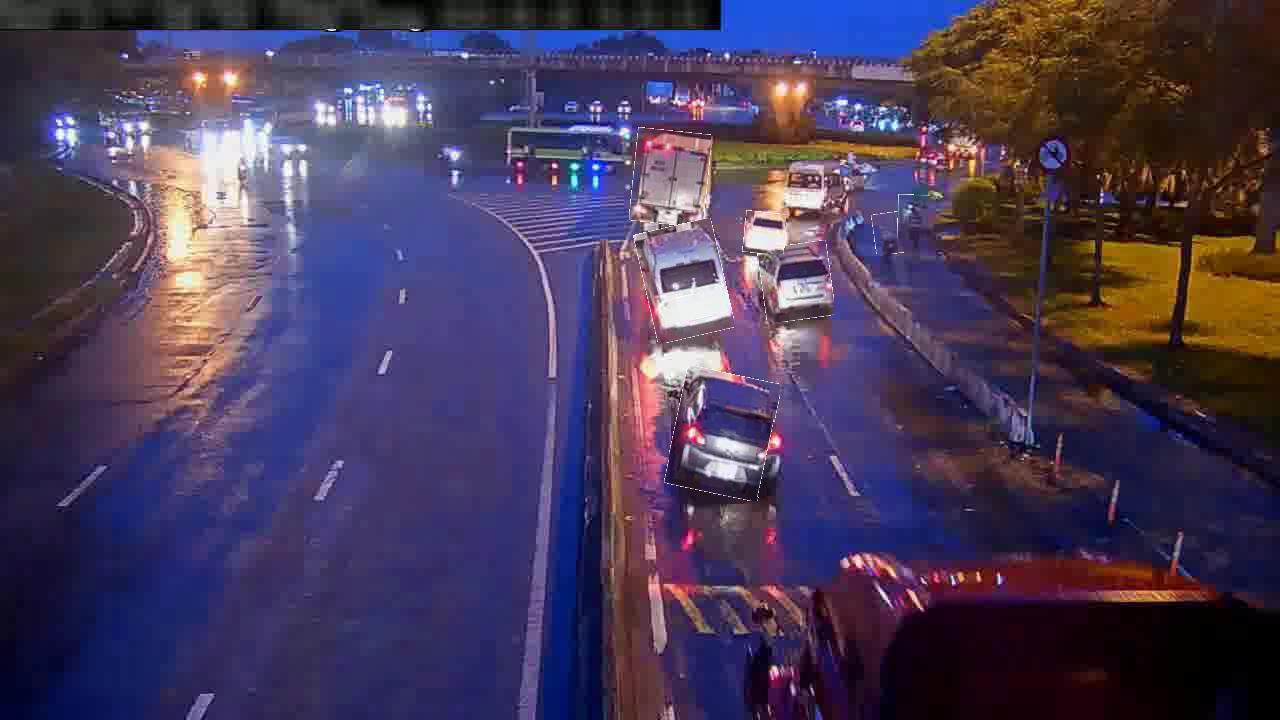14: (639, 222, 730, 341)
8: (632, 129, 710, 226)
container: (670, 370, 776, 498), (760, 242, 833, 321), (743, 211, 786, 254)
motorbike: (898, 195, 931, 240), (873, 212, 904, 255)
